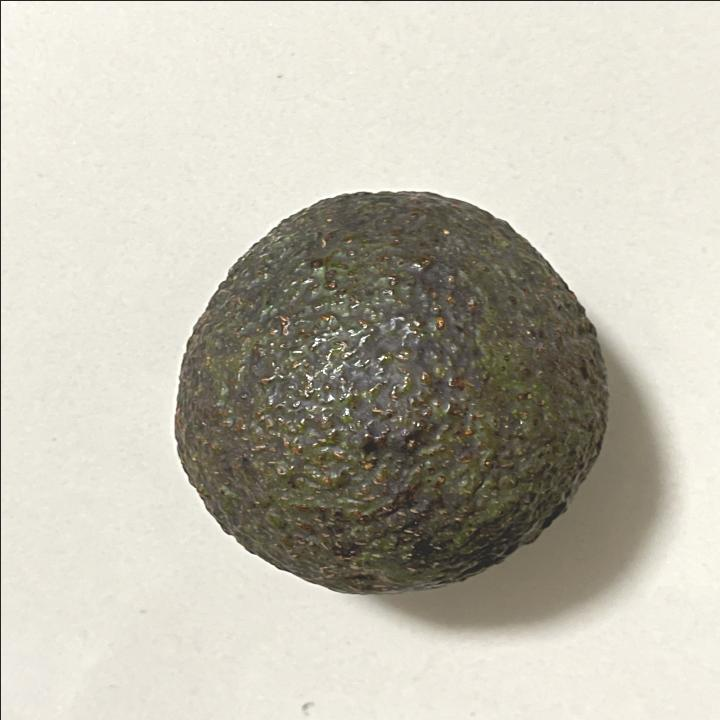Level1: (160, 178, 616, 606)
